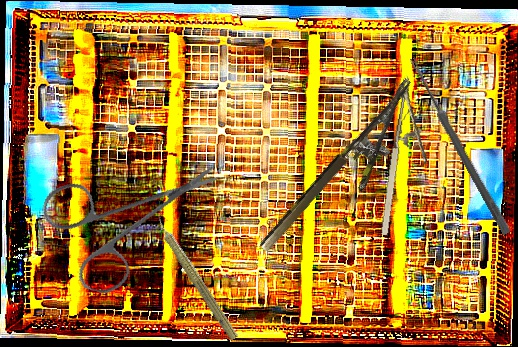Handpiece: (147, 207, 244, 343)
Iris Scissors: (23, 122, 222, 317)
Needle Holder: (257, 78, 438, 272), (376, 75, 441, 240)
Surgical Spoon: (406, 56, 513, 236)
